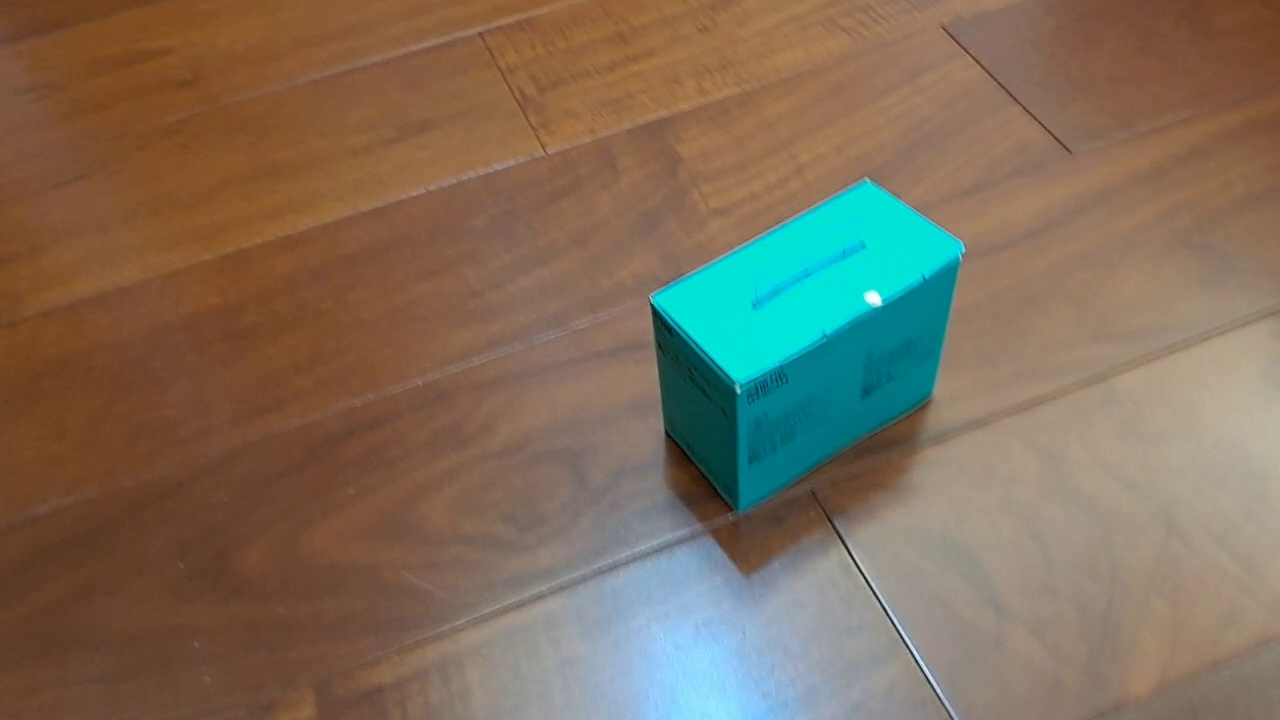webcam: (646, 174, 967, 520)
